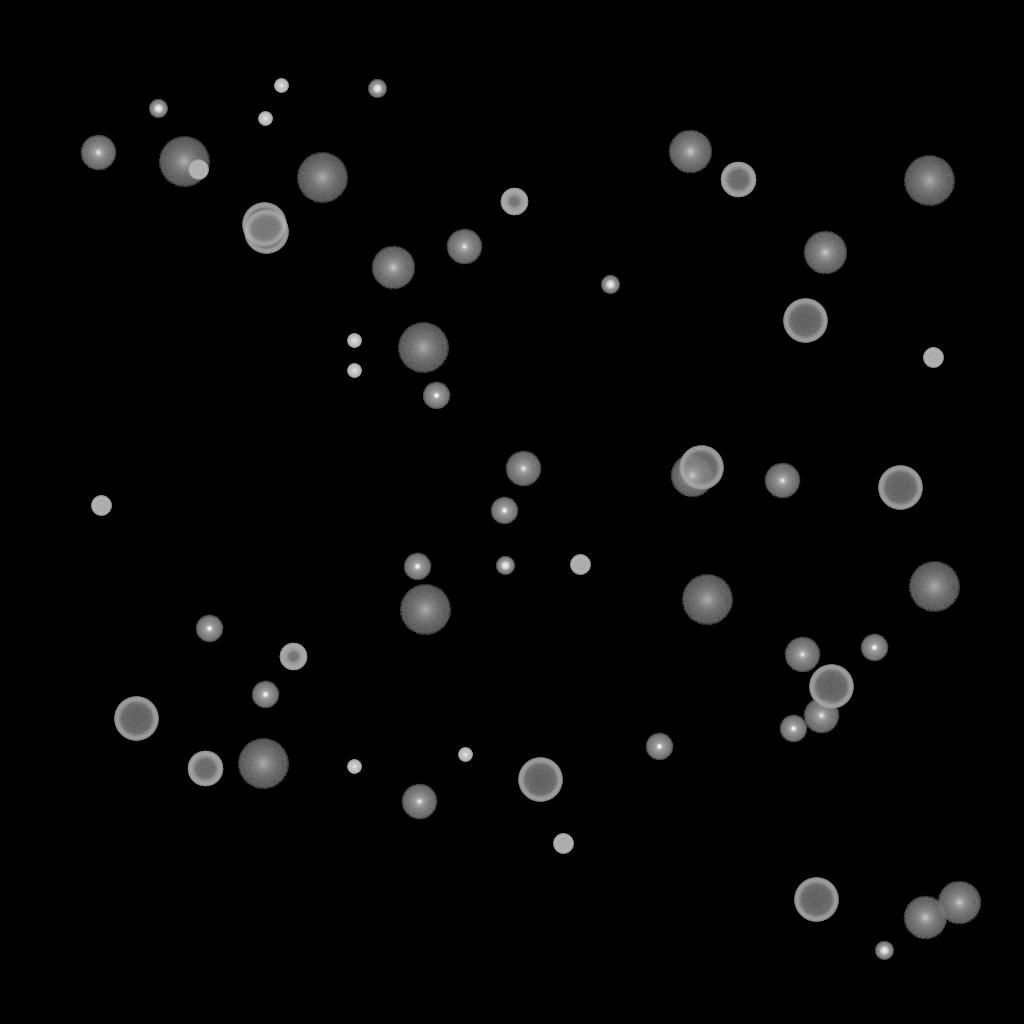depth:-10: (251, 681, 279, 709), (195, 615, 223, 643), (860, 634, 888, 662), (490, 497, 518, 525), (779, 715, 807, 743), (422, 382, 450, 410), (645, 733, 673, 761), (403, 553, 431, 581)
depth:-20: (601, 276, 619, 294), (368, 80, 386, 98), (149, 100, 167, 118), (496, 557, 514, 575), (875, 942, 893, 960)
depth:-30: (258, 112, 272, 126), (347, 760, 361, 774), (458, 748, 472, 762), (274, 79, 288, 93), (347, 364, 361, 378), (347, 334, 361, 348)
depth:-40: (923, 348, 943, 368), (553, 834, 573, 854), (188, 160, 208, 180), (91, 496, 111, 516), (570, 555, 590, 575)
depth:-50: (500, 188, 528, 216), (279, 643, 307, 671)
depth:-60: (720, 162, 756, 198), (187, 751, 223, 787)
depth:-70: (679, 446, 723, 490), (242, 203, 286, 247), (783, 299, 827, 343), (244, 210, 288, 254), (114, 697, 158, 741), (794, 878, 838, 922), (518, 758, 562, 802), (878, 466, 922, 510), (809, 665, 853, 709)
depth:0: (764, 463, 800, 499), (803, 698, 839, 734), (401, 784, 437, 820), (80, 135, 116, 171), (505, 451, 541, 487), (446, 229, 482, 265), (784, 637, 820, 673)
depth:10: (903, 896, 947, 940), (670, 454, 714, 498), (668, 130, 712, 174), (371, 246, 415, 290), (803, 231, 847, 275), (937, 881, 981, 925)
depth:20: (399, 585, 451, 635), (158, 137, 210, 187), (397, 323, 449, 373), (908, 562, 960, 612), (903, 156, 955, 206), (296, 153, 348, 203), (681, 575, 733, 625), (237, 739, 289, 789)
